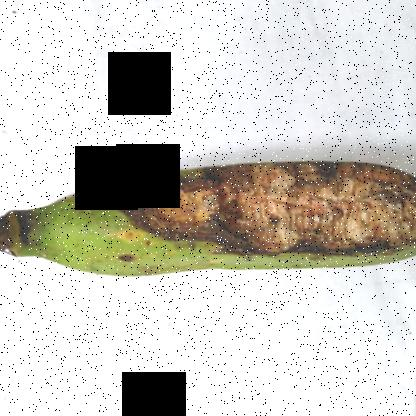rotten: (94, 135, 415, 295)
